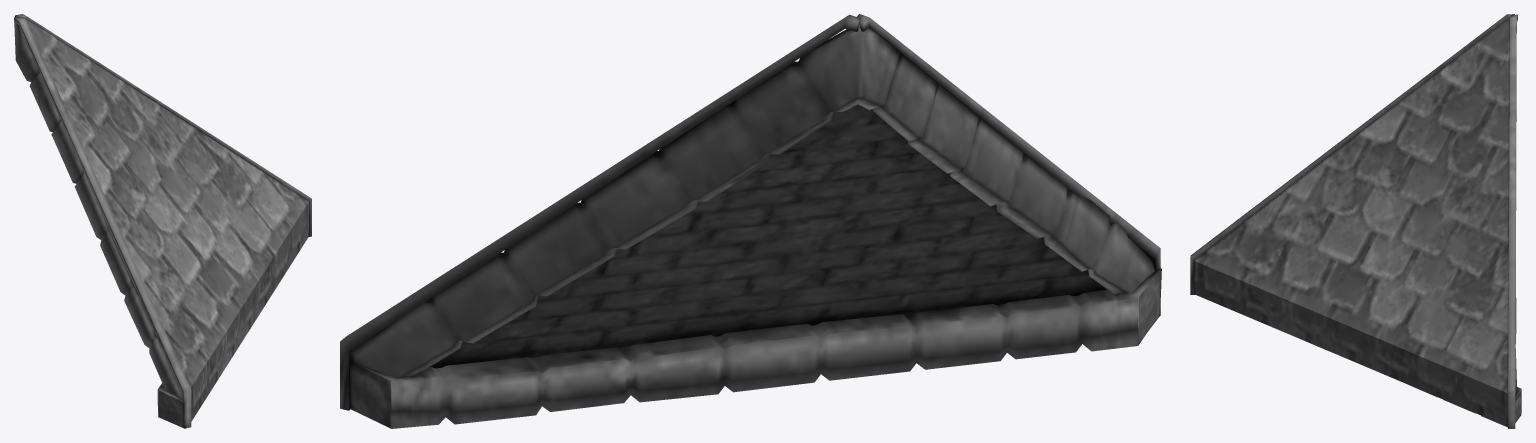
Rendered from SM_SlopedRoofCorner_Stone_0c6896.glb.
The picture shows the model from 3 angles, left to right: view 1: azimuth 30°, elevation 25°; view 2: azimuth 150°, elevation 25°; view 3: azimuth 270°, elevation 25°; orthographic projection. The views are drawn at different scales.
Bounding box in the file's own units: 4.15 × 3.84 × 4.14.
Materials: 1 (1 with a texture image).
